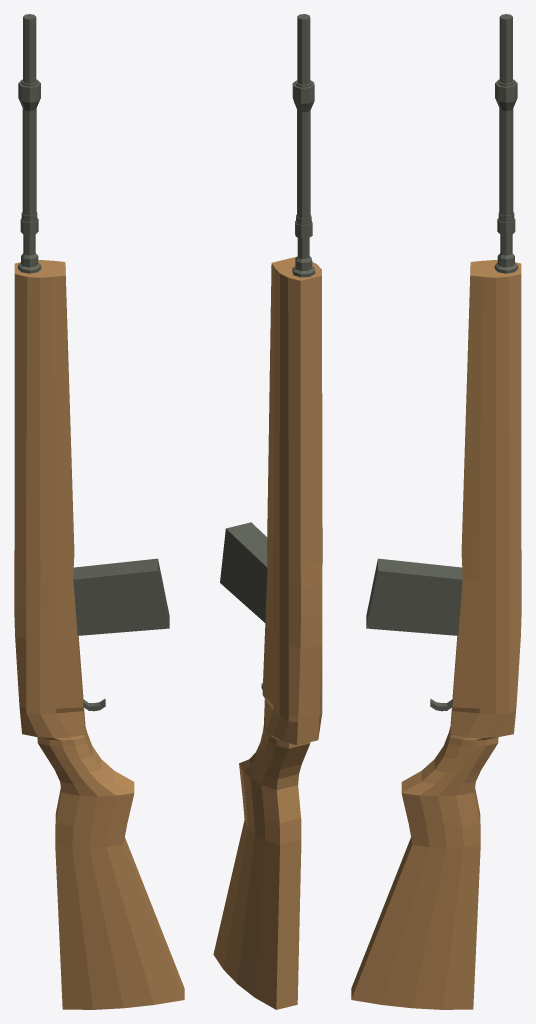
The model's file is weapon_semiauto.fbx.
3 renders of one model, left to right at view 1: azimuth 90°, elevation 25°; view 2: azimuth 210°, elevation 25°; view 3: azimuth 270°, elevation 25°, orthographic.
Visible parts, largest first — view 1: Cube; view 2: Cube; view 3: Cube.
Boxes of the visible parts, x1,y1,x2,y2 form: Cube: [14, 14, 184, 1009]; Cube: [213, 14, 322, 1009]; Cube: [351, 14, 521, 1009].
Bounding box in the file's own units: 37.04 × 955 × 150.
